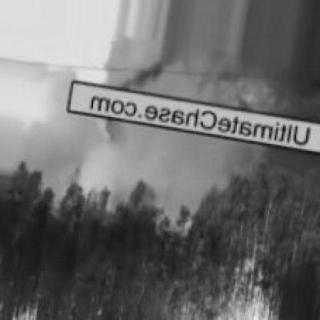Fire: (160, 249, 290, 317), (13, 292, 39, 314)
Smoke: (122, 41, 284, 108)
